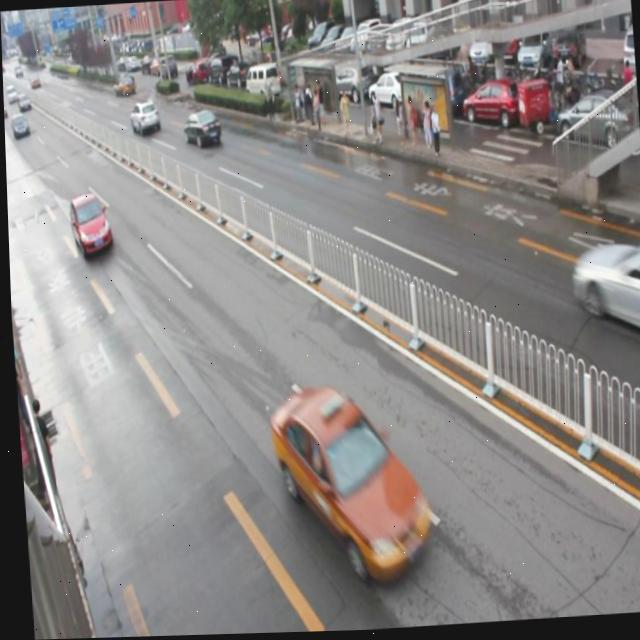car: (266, 382, 431, 588), (573, 241, 640, 338), (66, 192, 111, 258), (182, 109, 222, 147), (128, 101, 158, 132)
